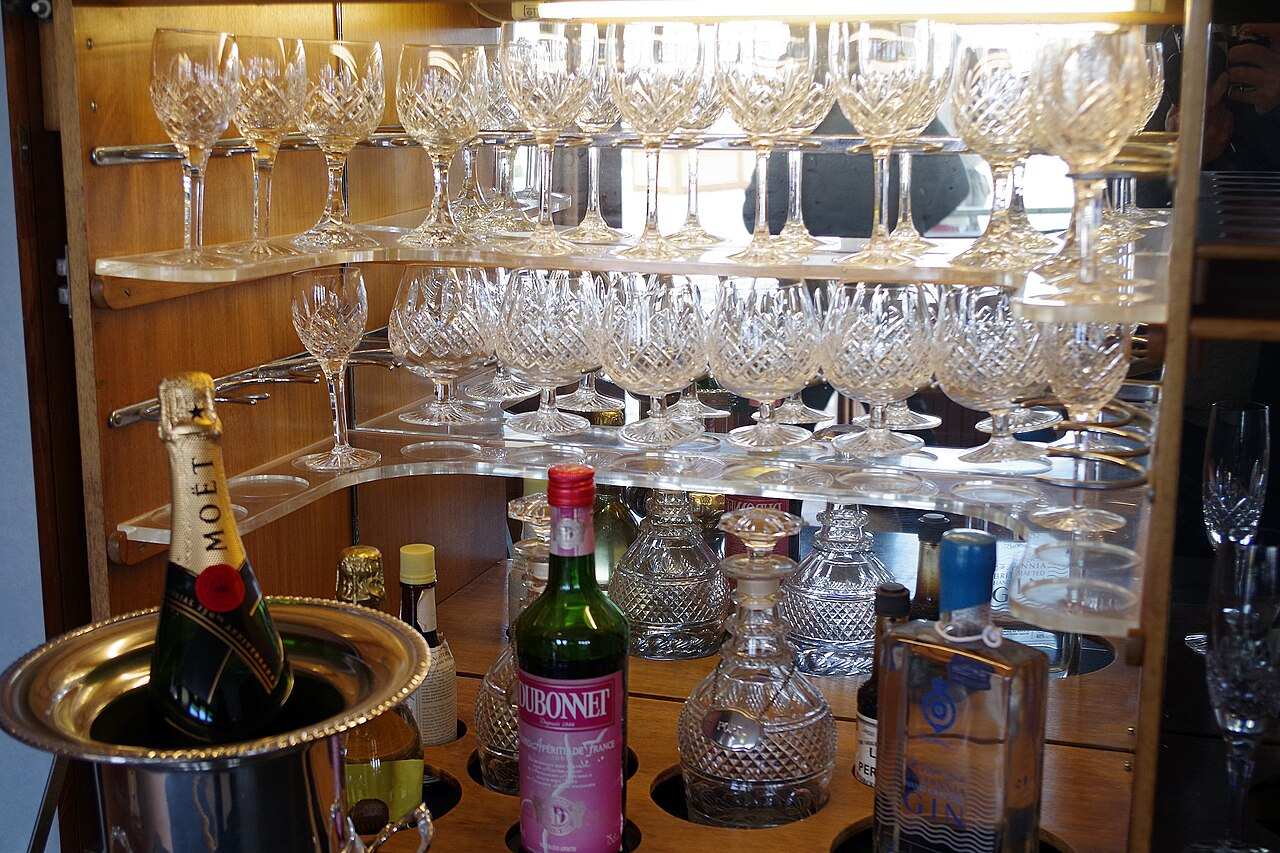orange: (398, 543, 460, 746)
unknown_bottle: (676, 554, 838, 828), (513, 467, 629, 848), (853, 583, 911, 786)
